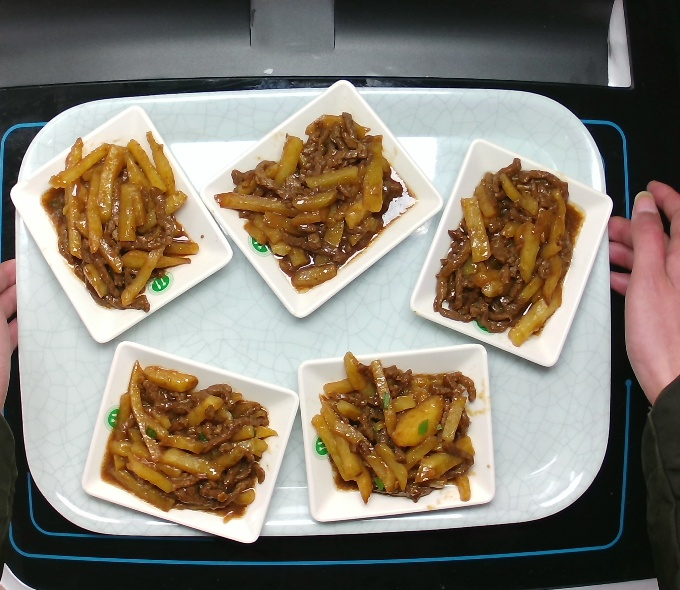wcq-TuDouNiuRou: (218, 102, 412, 297), (421, 143, 586, 349), (89, 350, 282, 524), (35, 124, 201, 319), (300, 344, 487, 514)
